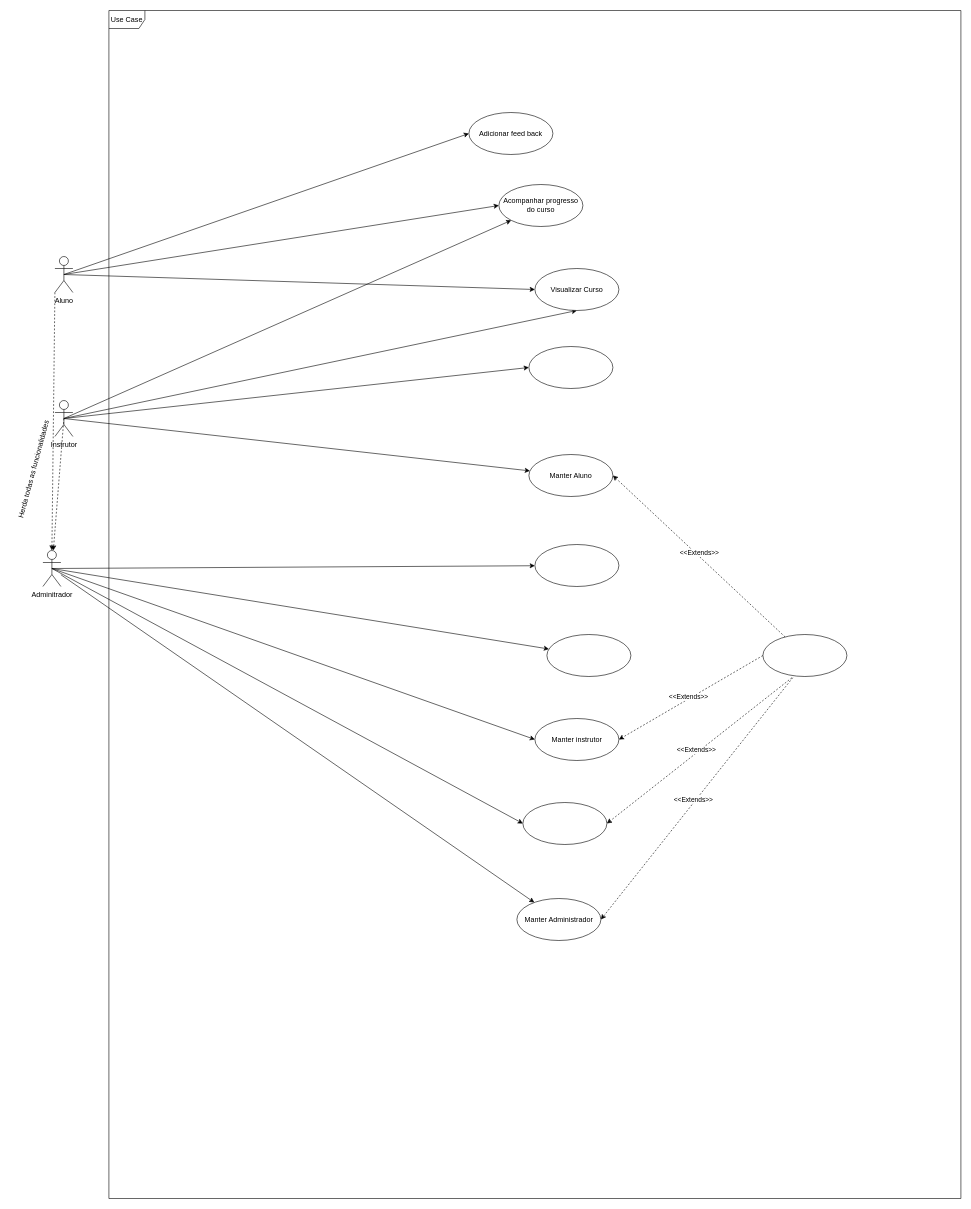
The diagram is 971 pixels wide and 1209 high, and some of its shapes have lost their labels. Here are the shapes that lost their labels. From the top down, the box of each, then its label:
(528, 346, 613, 388): Desvincular Aluno de Curso
(534, 544, 619, 586): Remover Instrutor de Curso
(546, 634, 631, 676): Adicionar Instrutor a curso
(762, 634, 847, 676): CRUD
(522, 802, 607, 844): Manter Curso
